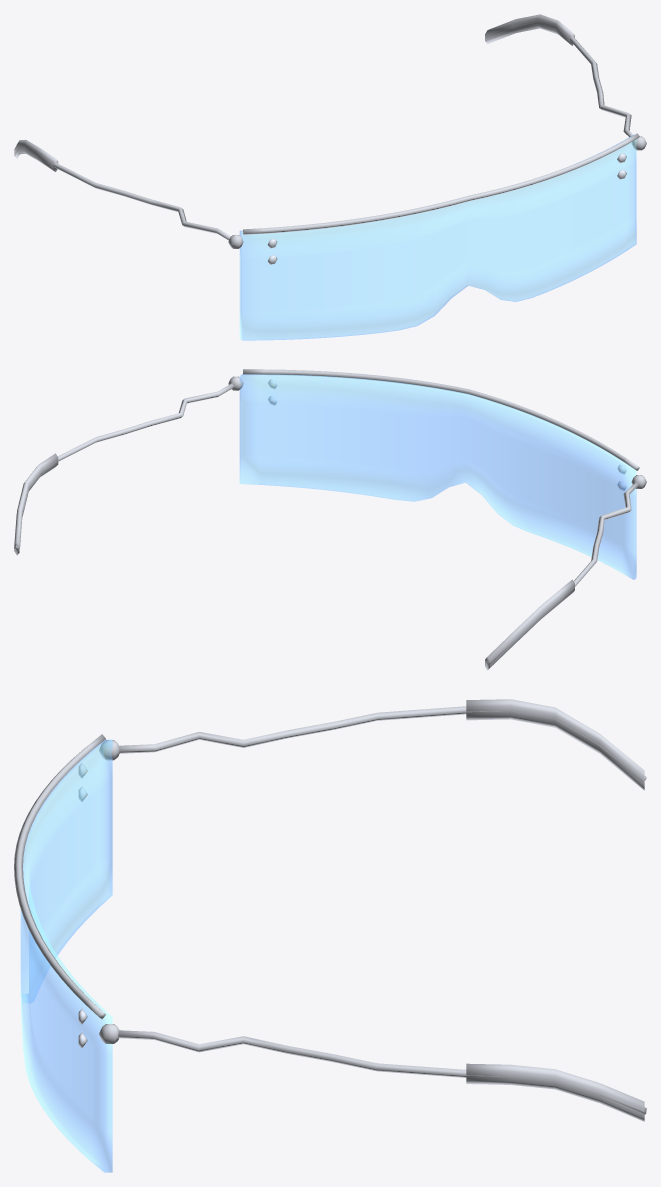
File: y2k_shield_glasses.glb
The picture shows the model from 3 angles, top to bottom: view 1: azimuth 30°, elevation 25°; view 2: azimuth 150°, elevation 25°; view 3: azimuth 270°, elevation 25°; orthographic projection. The views are drawn at different scales.
Parts seen in each view (by area): view 1: y2k_shield_glasses; view 2: y2k_shield_glasses; view 3: y2k_shield_glasses.
Boxes of the visible parts, left/top/right/bottom form: y2k_shield_glasses: left=14, top=14, right=646, bottom=340; y2k_shield_glasses: left=14, top=369, right=646, bottom=670; y2k_shield_glasses: left=14, top=699, right=646, bottom=1172.
Size of the model in its own units: 0.2343 by 0.0519 by 0.1697.
